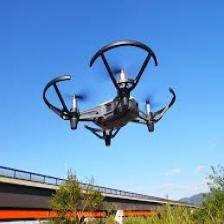drone: (43, 40, 176, 148)
